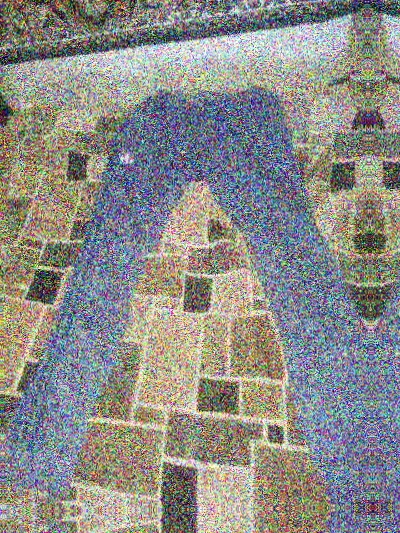Pants: (1, 49, 356, 494), (385, 45, 400, 489), (6, 527, 362, 533), (391, 522, 400, 533), (0, 531, 5, 533)
